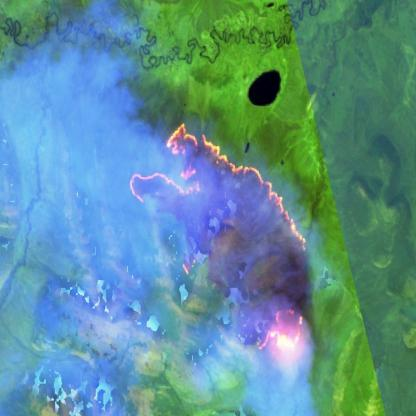fire: (126, 118, 312, 362)
